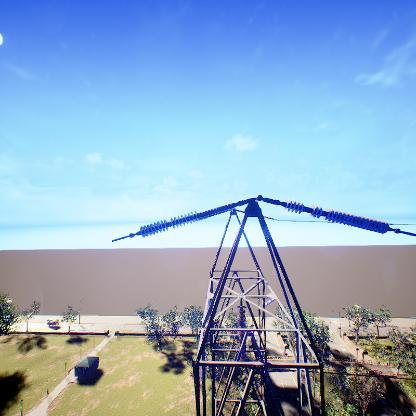insulator: (139, 199, 236, 240), (285, 198, 391, 235)
